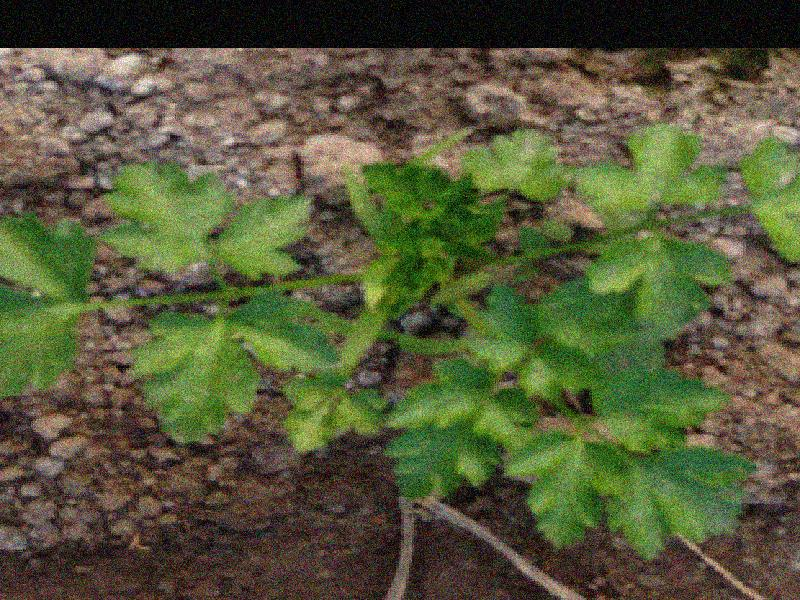radish: (73, 6, 697, 593)
